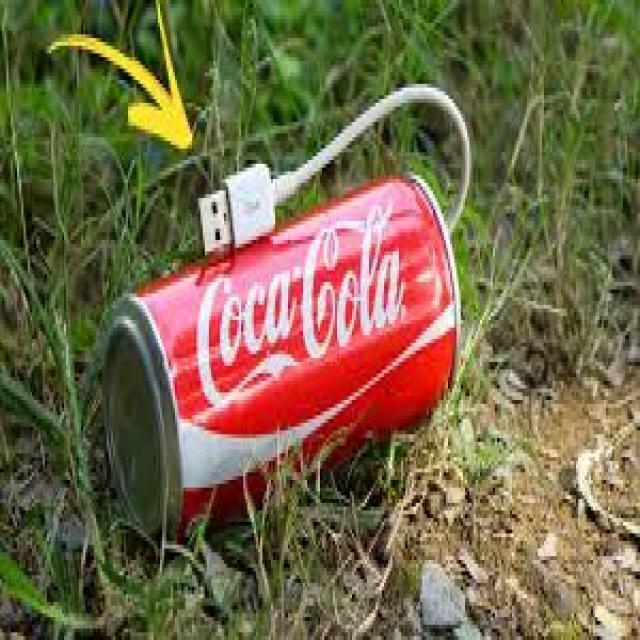can: (88, 166, 466, 548)
